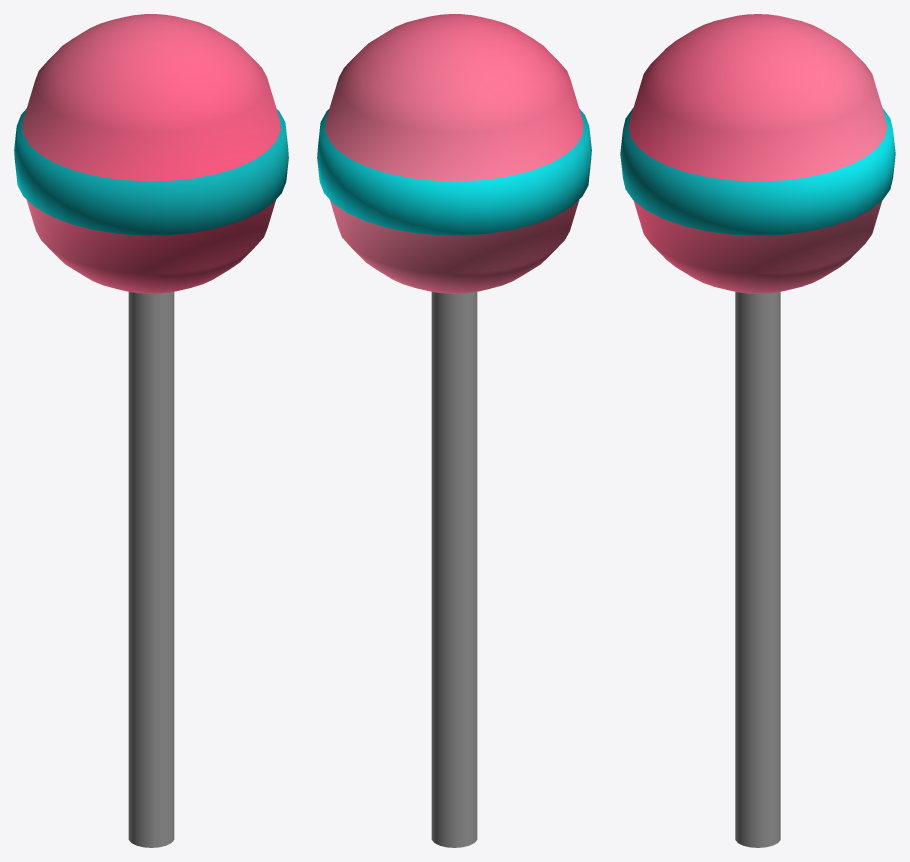
Rendered from sucette.fbx.
3 renders of one model, left to right at view 1: azimuth 30°, elevation 25°; view 2: azimuth 150°, elevation 25°; view 3: azimuth 270°, elevation 25°, orthographic.
Parts seen in each view (by area): view 1: Sucette; view 2: Sucette; view 3: Sucette.
Boxes of the visible parts, x1,y1,x2,y2 form: Sucette: [14, 14, 288, 847]; Sucette: [317, 14, 591, 847]; Sucette: [620, 14, 895, 847].
Size of the model in its own units: 54.71 by 178 by 54.71.
Materials: 1 (1 with a texture image).
